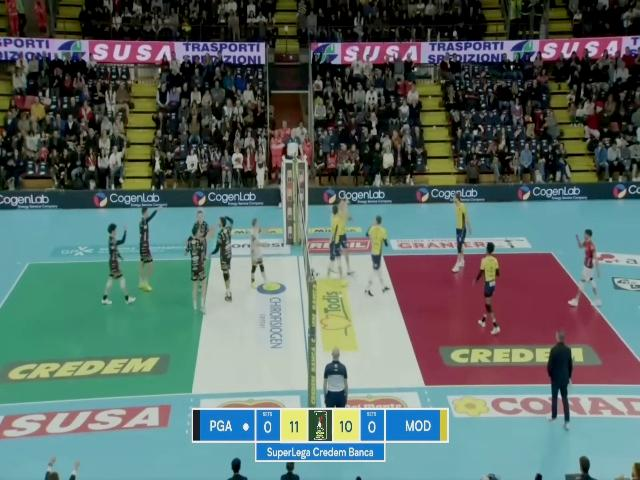volleyball court: (0, 250, 639, 390)
